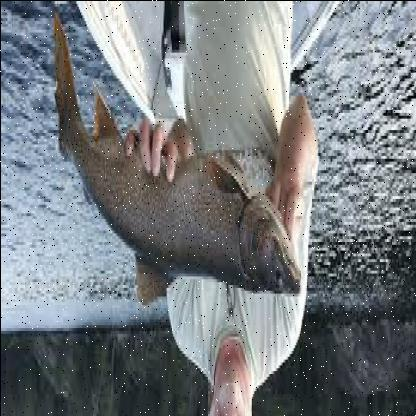fish: (50, 14, 302, 309)
